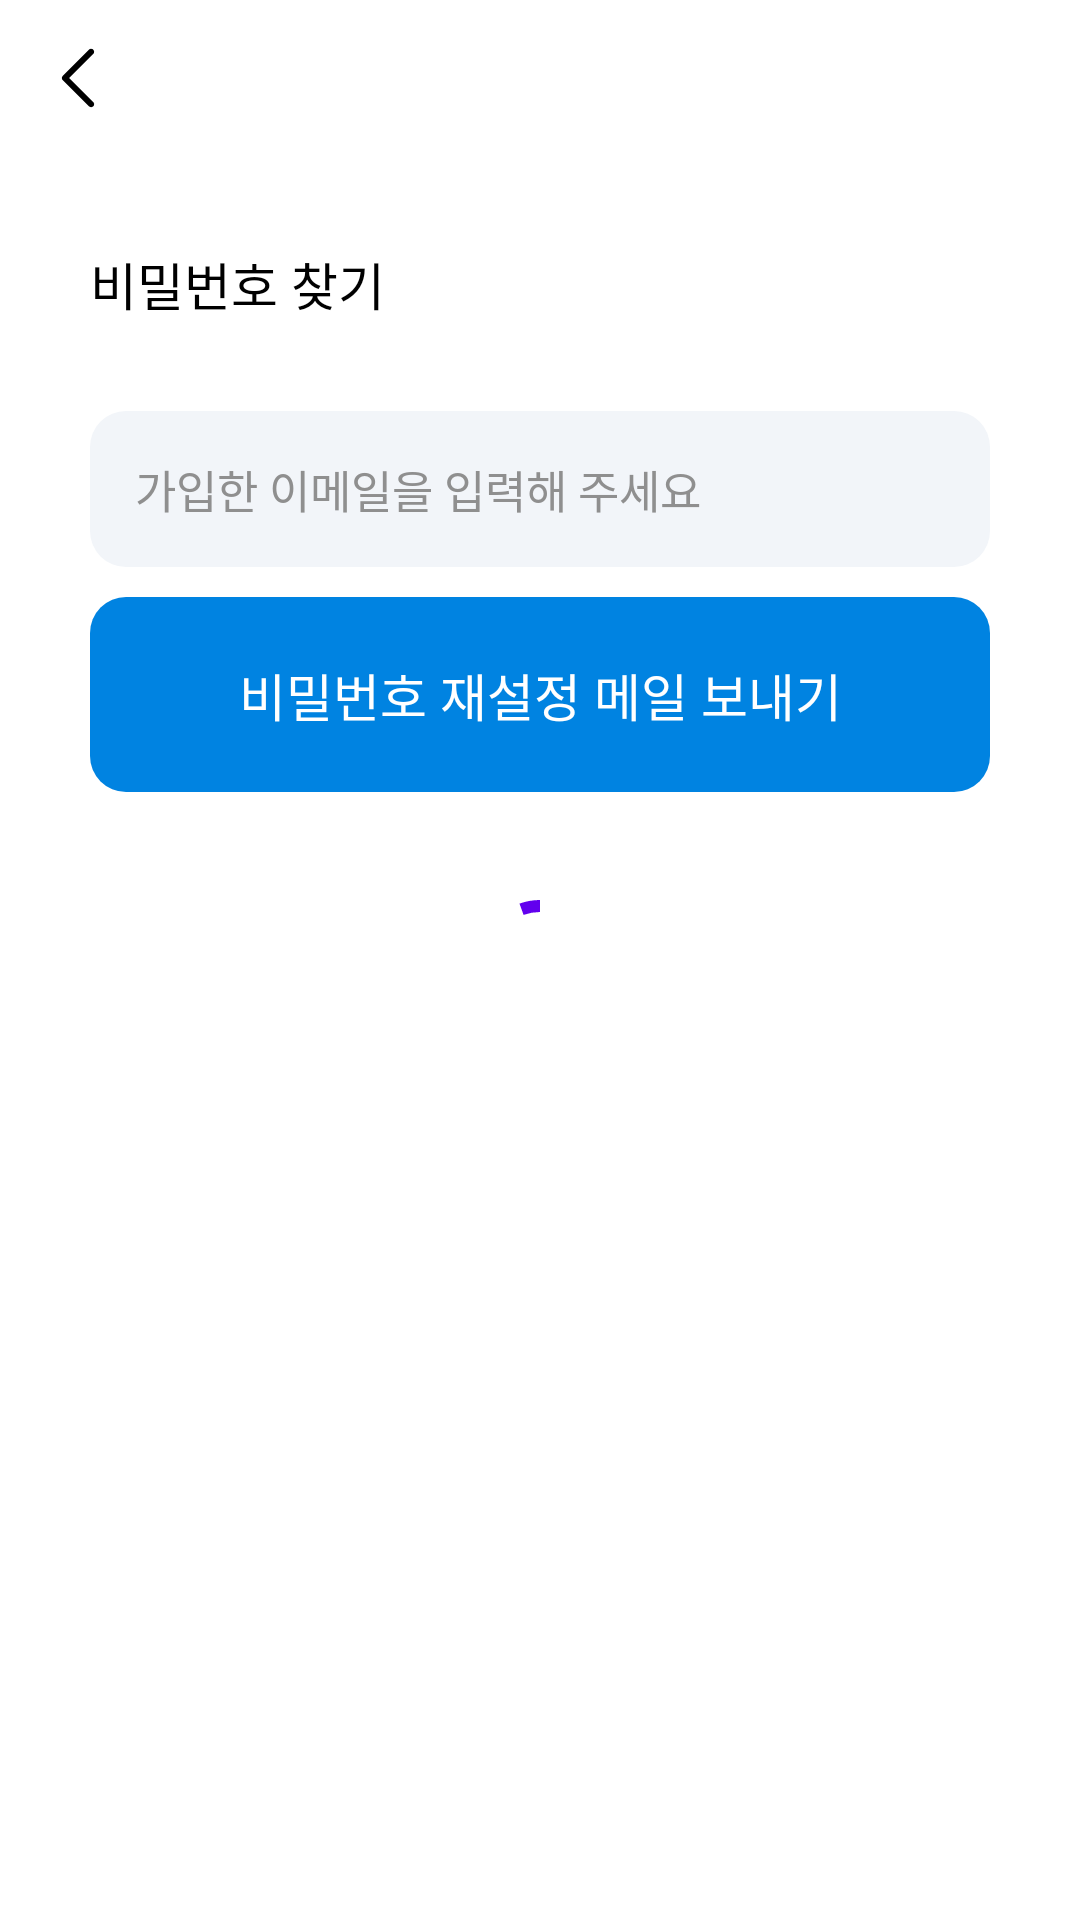

Named icons in this screenshot (1080px×1920px) and their bounding boxes, box(x1, y1, x2, y2):
back: box(62, 48, 94, 108)
